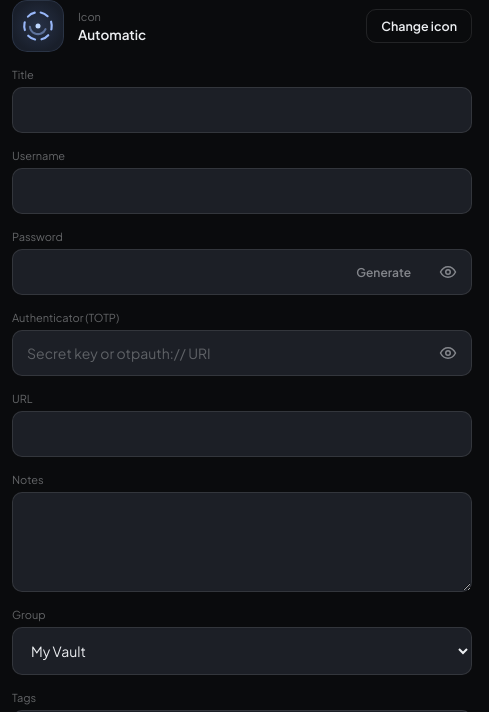
Test: EntryForm › shows a live strength badge that updates as the password changes
Type "abc" into the password field labelled "Password" at (178, 272), box top-left (13, 250), bottom-right (342, 294)
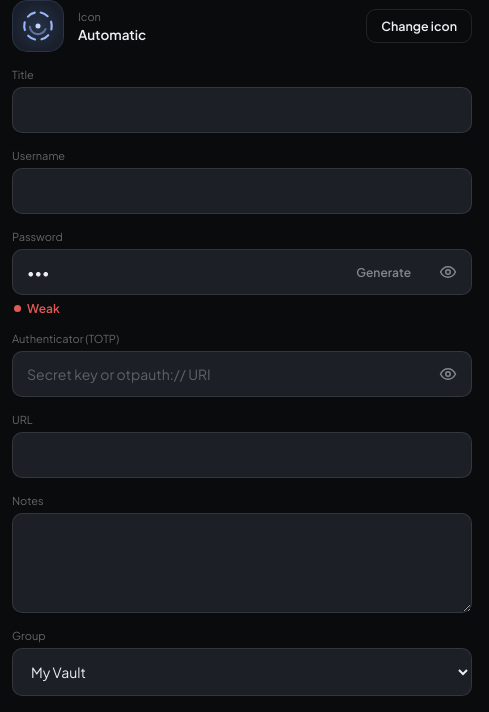
Expected: the text "Weak" is shown, top-left (14, 301), bottom-right (60, 316)
Type "Abcdefghij12" into the password field labelled "Password" at (178, 272), box top-left (13, 250), bottom-right (342, 294)
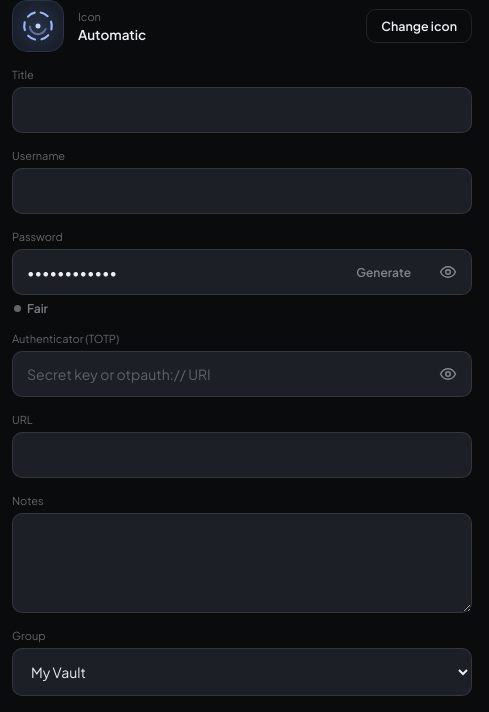
Expected: the text "Fair" is shown, top-left (14, 301), bottom-right (48, 316)
Type "Abcdefghij12345!" into the password field labelled "Password" at (178, 272), box top-left (13, 250), bottom-right (342, 294)
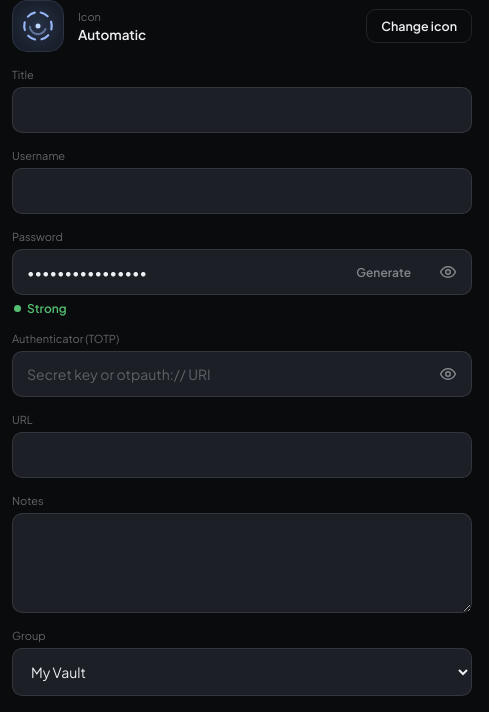
Expected: the text "Strong" is shown, top-left (14, 301), bottom-right (67, 316)
Clear the password field labelled "Password" at (178, 272), box top-left (13, 250), bottom-right (342, 294)
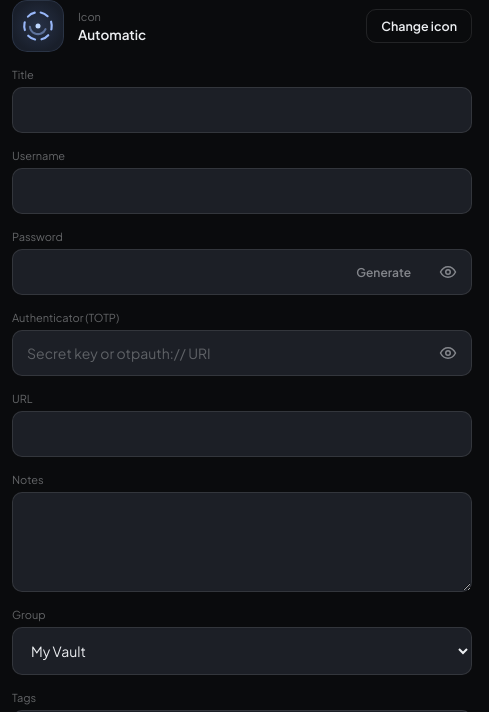
Expected: the text "Strong" is gone
